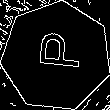P_W: (30, 35, 83, 78)
